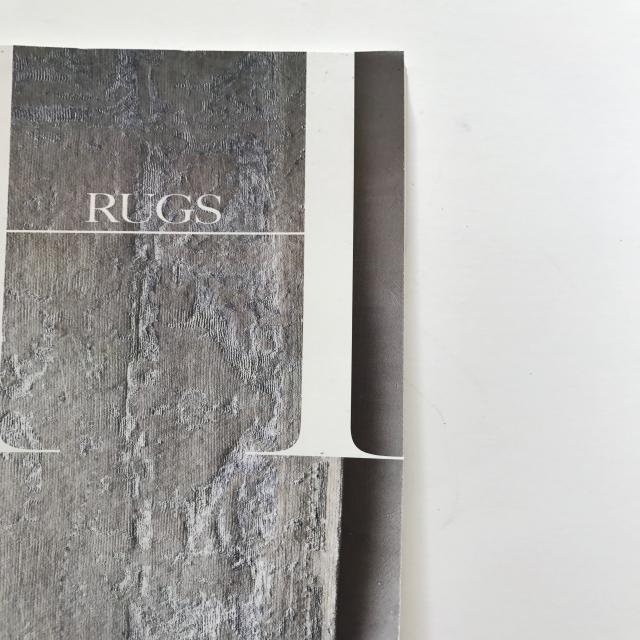paper: (1, 45, 406, 640)
